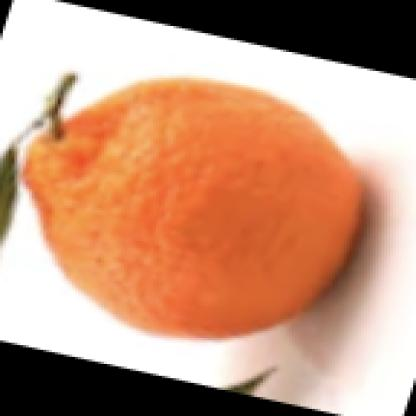fresh: (21, 76, 366, 341)
